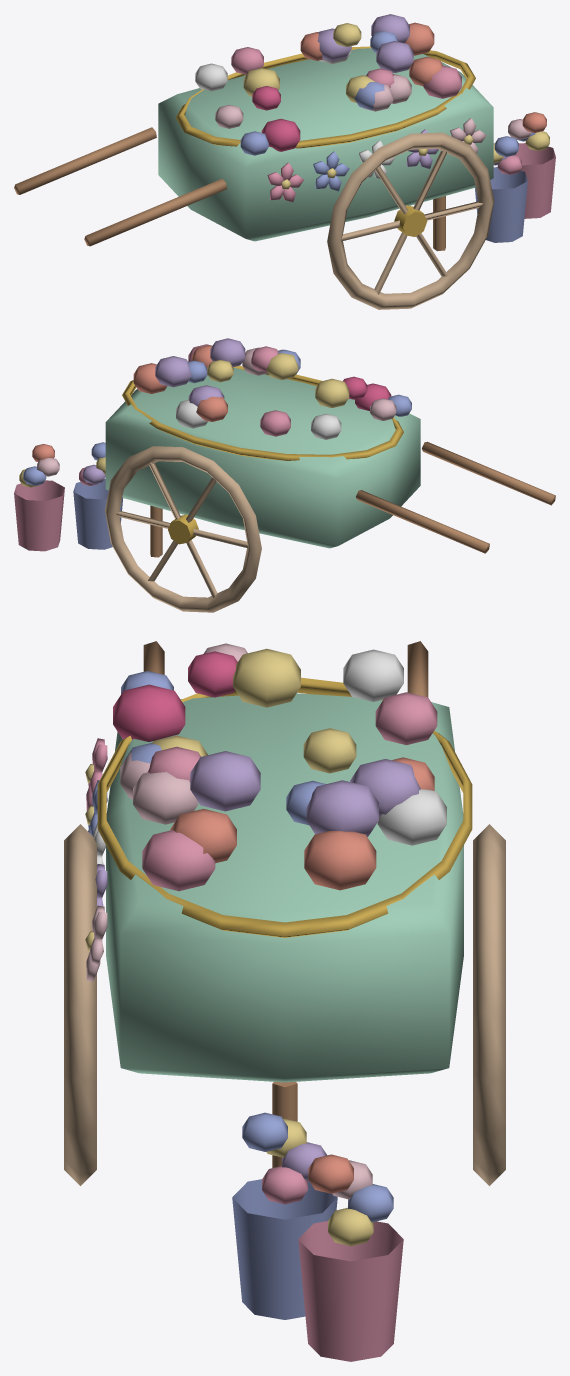
Rendered from fae_flower_cart.gltf.
3 renders of one model, top to bottom at view 1: azimuth 30°, elevation 25°; view 2: azimuth 150°, elevation 25°; view 3: azimuth 270°, elevation 25°, orthographic. The views are drawn at different scales.
Parts seen in each view (by area): view 1: fae_flower_cart; view 2: fae_flower_cart; view 3: fae_flower_cart.
Part boxes in pixels (bbox=[...]): fae_flower_cart: bbox=[14, 14, 555, 309]; fae_flower_cart: bbox=[14, 338, 555, 612]; fae_flower_cart: bbox=[64, 641, 505, 1361].
Size of what is drawn, in the model's own units: 3.42 by 1.47 by 1.34.
